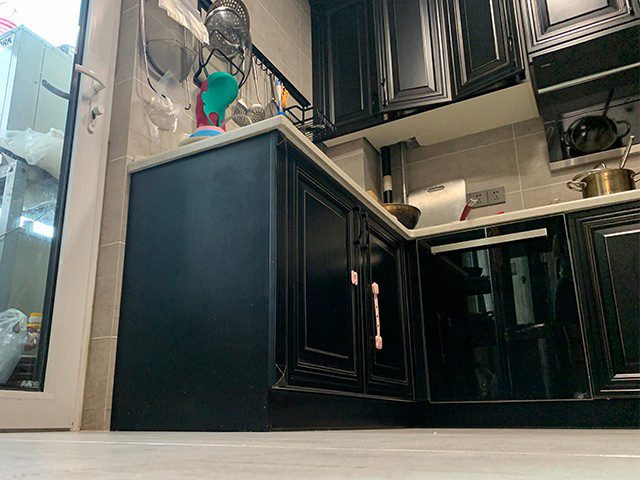cabinet: (111, 114, 640, 434)
